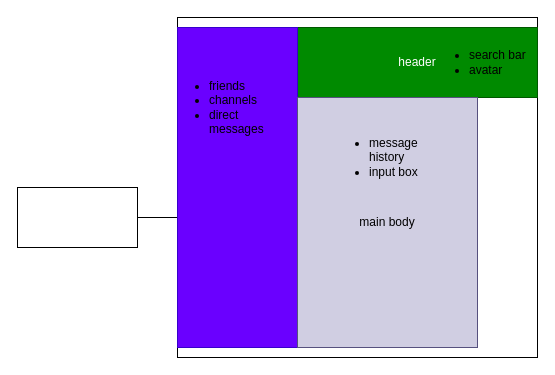
Some shapes in this 555 by 375 pixel diagram are drawn without their labels. The box of each missing label's shape, as (x1, y1, x2, y2) in pixels:
Login: (16, 186, 138, 248)
side bar: (176, 26, 298, 348)
